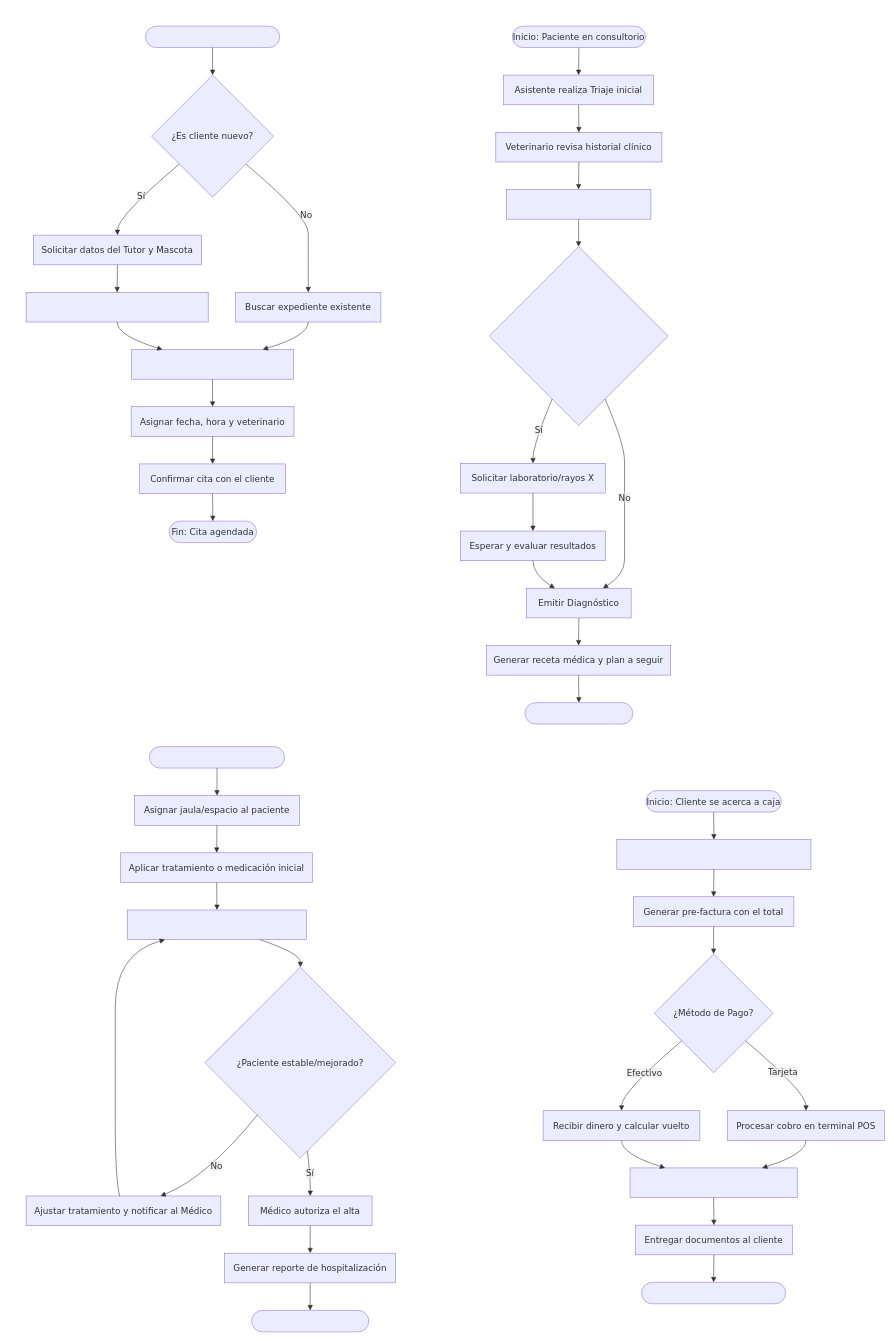
The diagram is 894 pixels wide and 1341 high, and some of its shapes have lost their labels. Here are the shapes that lost their labels. From the top down, the box of each, then its label:
(145, 26, 280, 48): Inicio: Cliente contacta clínica
(506, 189, 651, 219): Examen físico de la mascota
(26, 292, 208, 322): Crear nuevo expediente en el sistema
(489, 246, 668, 425): ¿Requiere exámenes extra?
(131, 349, 293, 379): Revisar disponibilidad de agenda
(524, 702, 633, 724): Fin: Consulta terminada
(149, 746, 285, 768): Inicio: Orden de internamiento
(616, 839, 811, 869): Consolidar servicios médicos y productos
(127, 909, 307, 940): Monitoreo periódico de signos vitales
(629, 1167, 797, 1198): Emitir Factura Electrónica/Recibo
(641, 1282, 786, 1304): Fin: Proceso de pago completado
(251, 1310, 369, 1332): Fin: Paciente dado de alta
